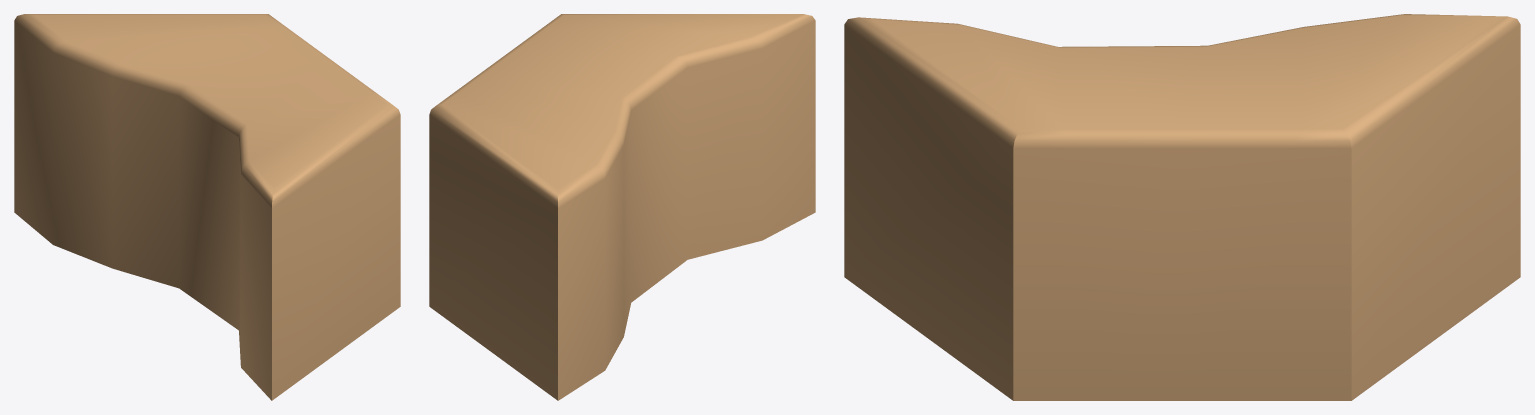
File: kaykit-hex-sand-waterc-empty.glb
3 renders of one model, left to right at view 1: azimuth 30°, elevation 25°; view 2: azimuth 150°, elevation 25°; view 3: azimuth 270°, elevation 25°, orthographic. The views are drawn at different scales.
Parts seen in each view (by area): view 1: hex_sand_waterC_empty; view 2: hex_sand_waterC_empty; view 3: hex_sand_waterC_empty.
Boxes of the visible parts, left/top/right/bottom form: hex_sand_waterC_empty: left=14, top=14, right=400, bottom=400; hex_sand_waterC_empty: left=429, top=14, right=815, bottom=400; hex_sand_waterC_empty: left=844, top=14, right=1520, bottom=400.
Size of the model in its own units: 1.02 by 1 by 2.31.
